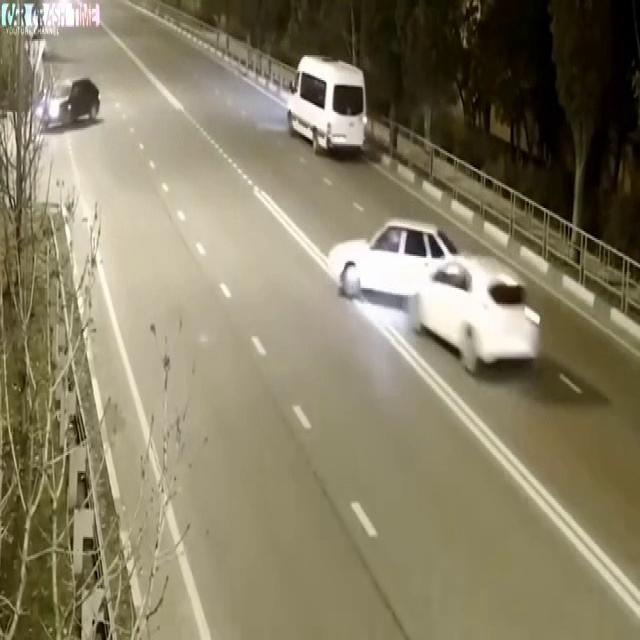accident: (319, 176, 562, 414)
